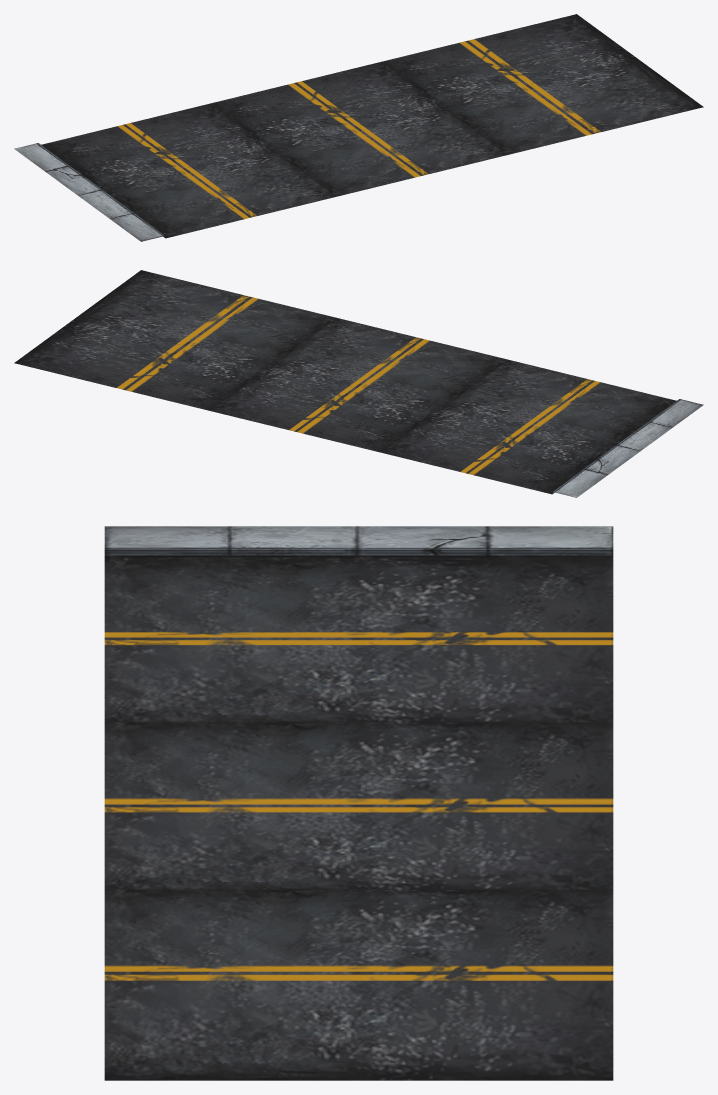
Rendered from Road.fbx.
The picture shows the model from 3 angles, top to bottom: view 1: azimuth 30°, elevation 25°; view 2: azimuth 150°, elevation 25°; view 3: azimuth 270°, elevation 25°; orthographic projection. The views are drawn at different scales.
Visible parts, largest first — view 1: BD_ConcreteBlock1.006; view 2: BD_ConcreteBlock1.006; view 3: BD_ConcreteBlock1.006.
Part boxes in pixels (left/top/right/bottom): BD_ConcreteBlock1.006: left=14, top=14, right=703, bottom=241; BD_ConcreteBlock1.006: left=14, top=270, right=703, bottom=497; BD_ConcreteBlock1.006: left=104, top=526, right=613, bottom=1080.
Size of the model in its own units: 46 by 0.2 by 18.
Materials: 1 (1 with a texture image).
